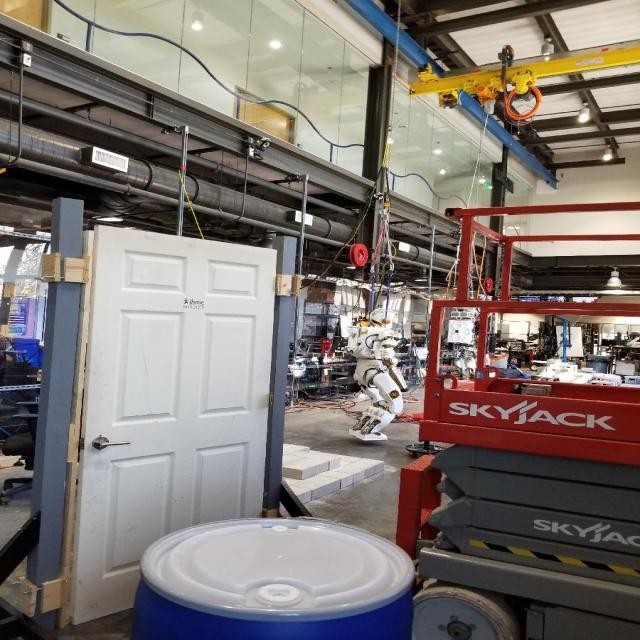door: (64, 222, 278, 626), (88, 434, 136, 452)
